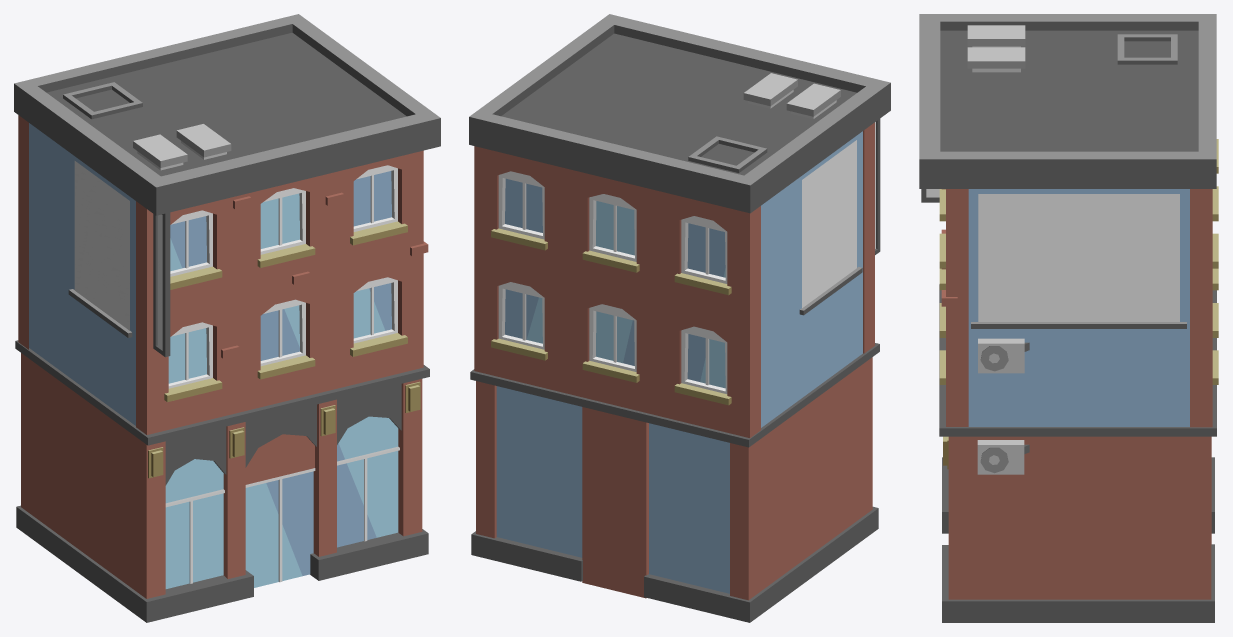
Rendered from hotel_009.glb.
The picture shows the model from 3 angles, left to right: view 1: azimuth 30°, elevation 25°; view 2: azimuth 150°, elevation 25°; view 3: azimuth 270°, elevation 25°; orthographic projection. The views are drawn at different scales.
Visible parts, largest first — view 1: hotel_009; view 2: hotel_009; view 3: hotel_009.
Part boxes in pixels (left/top/right/bottom): hotel_009: left=14, top=14, right=440, bottom=622; hotel_009: left=469, top=14, right=890, bottom=622; hotel_009: left=919, top=14, right=1218, bottom=622.
Bounding box in the file's own units: 6.1 × 8.99 × 5.19.
Materials: 1 (1 with a texture image).
